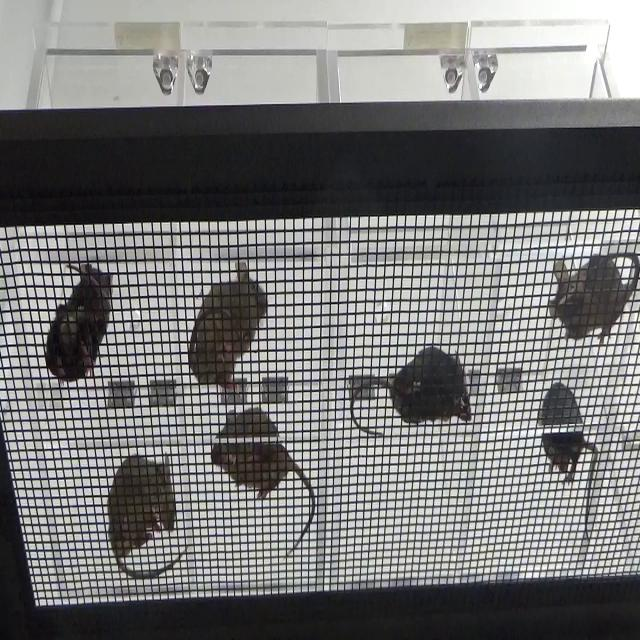scratch: (547, 236, 639, 362)
